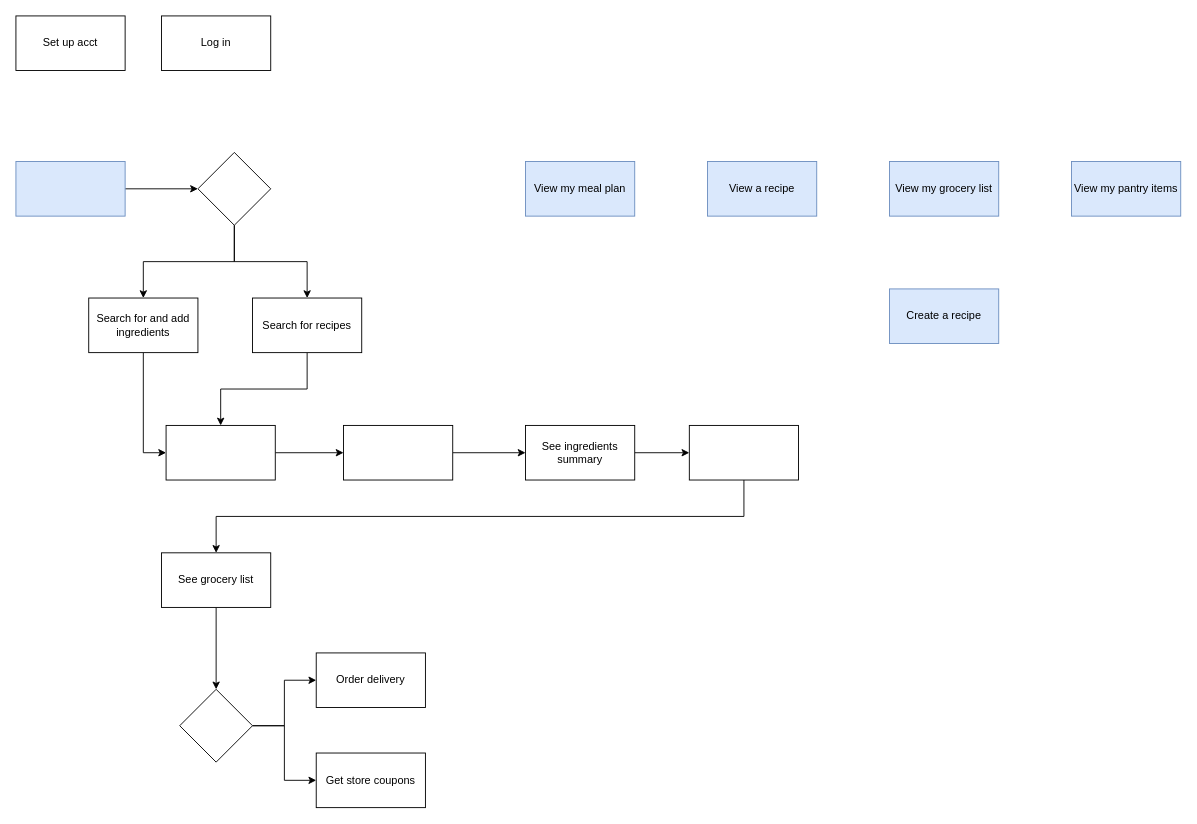
The diagram is 1197 pixels wide and 824 high, and some of its shapes have lost their labels. The shapes that lost their labels are listed below. From the top down, each one's box as (x1, y1, x2, y2) in pixels, then its label:
(15, 161, 125, 216): Plan my meal
(165, 425, 275, 480): See recipes
(343, 425, 453, 480): Assign recipe to schedule
(688, 425, 799, 480): Designate "have it" or "don't have it"
